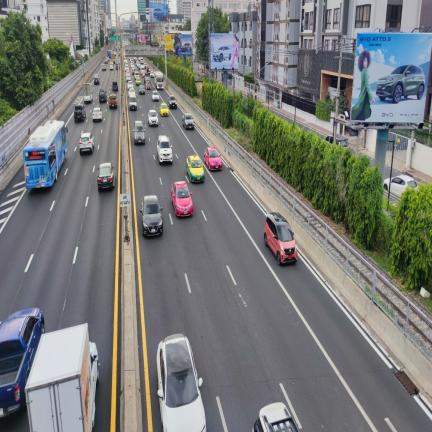bus: (23, 121, 66, 187)
car: (157, 334, 206, 431), (376, 65, 425, 103), (264, 212, 297, 264), (140, 195, 163, 235), (383, 175, 417, 197), (97, 163, 115, 190), (157, 135, 172, 164), (79, 133, 94, 154), (212, 46, 232, 61), (134, 120, 144, 143), (182, 113, 194, 129), (92, 107, 102, 122), (148, 110, 158, 125), (129, 92, 137, 110), (337, 134, 349, 146), (153, 9, 166, 20), (168, 95, 177, 107), (99, 89, 107, 102), (181, 43, 192, 52), (151, 91, 159, 101), (128, 88, 136, 97), (325, 135, 333, 143), (139, 84, 145, 94), (145, 70, 151, 80), (145, 80, 151, 89), (112, 81, 117, 91), (127, 81, 133, 89), (126, 72, 131, 80), (134, 72, 139, 80), (94, 77, 100, 83), (125, 65, 129, 73), (141, 70, 145, 78), (127, 76, 132, 82), (102, 64, 106, 71), (132, 67, 136, 74), (137, 62, 140, 70), (150, 71, 154, 77), (143, 63, 146, 70), (110, 64, 113, 70), (104, 58, 107, 64)
human: (351, 50, 374, 120), (230, 34, 238, 68)
pickup: (0, 308, 44, 417), (74, 104, 85, 122), (109, 94, 117, 108)
taxi: (171, 181, 193, 215), (186, 155, 204, 181), (204, 147, 222, 169), (159, 103, 169, 115), (136, 76, 141, 85)
truck: (25, 323, 98, 431), (83, 84, 92, 102), (154, 71, 163, 89), (111, 52, 115, 61), (107, 50, 111, 58)
